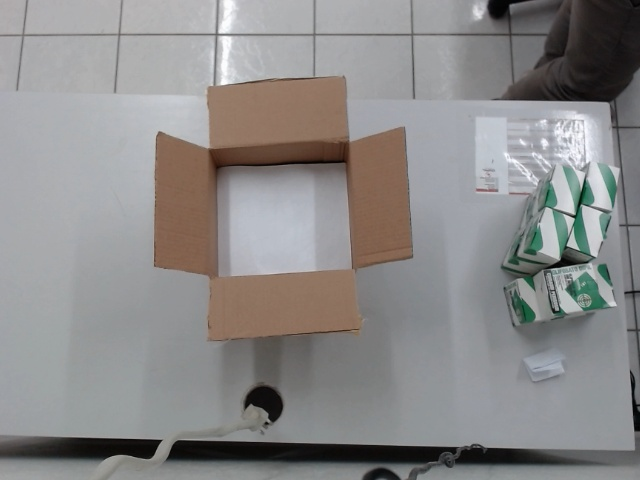caixa_principal: (151, 76, 420, 344)
